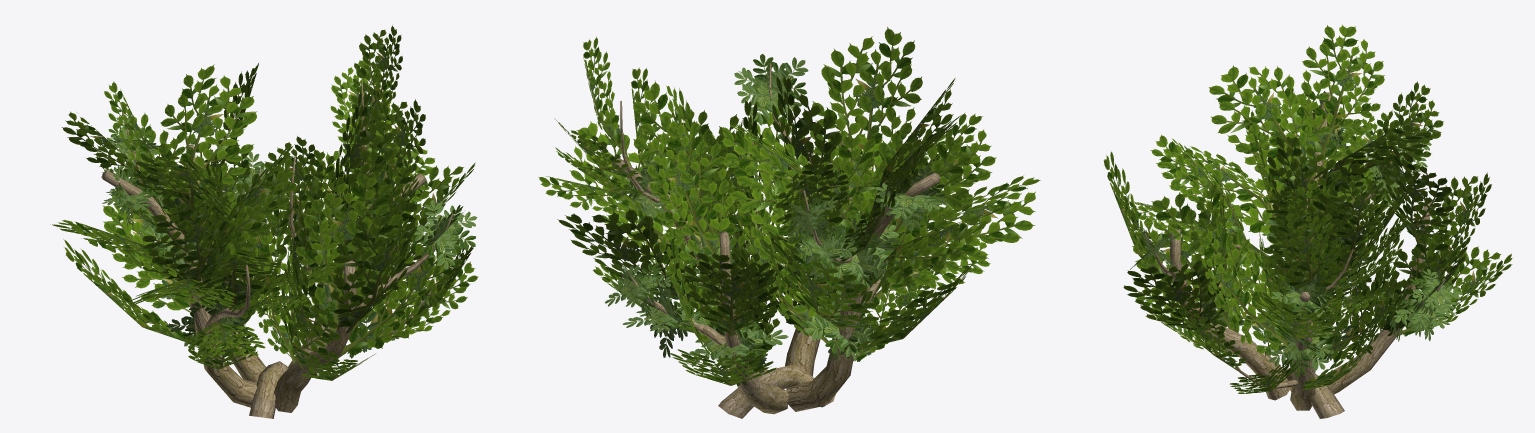
File: Tree_003.fbx
3 renders of one model, left to right at view 1: azimuth 30°, elevation 25°; view 2: azimuth 150°, elevation 25°; view 3: azimuth 270°, elevation 25°, orthographic. The views are drawn at different scales.
Visible parts, largest first — view 1: polySurface13; view 2: polySurface13; view 3: polySurface13.
Part boxes in pixels (left/top/right/bottom): polySurface13: left=50, top=25, right=478, bottom=418; polySurface13: left=538, top=27, right=1040, bottom=418; polySurface13: left=1103, top=24, right=1512, bottom=418.
Size of the model in its own units: 7109 by 5259 by 6474.
